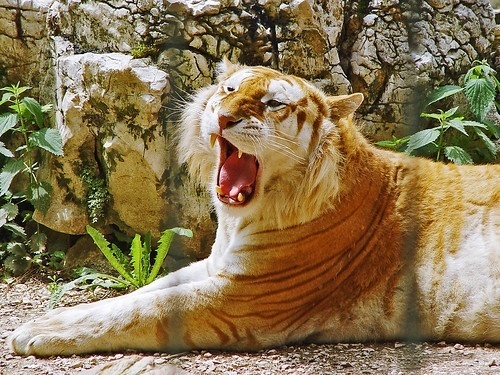tigre: (15, 54, 500, 354)
